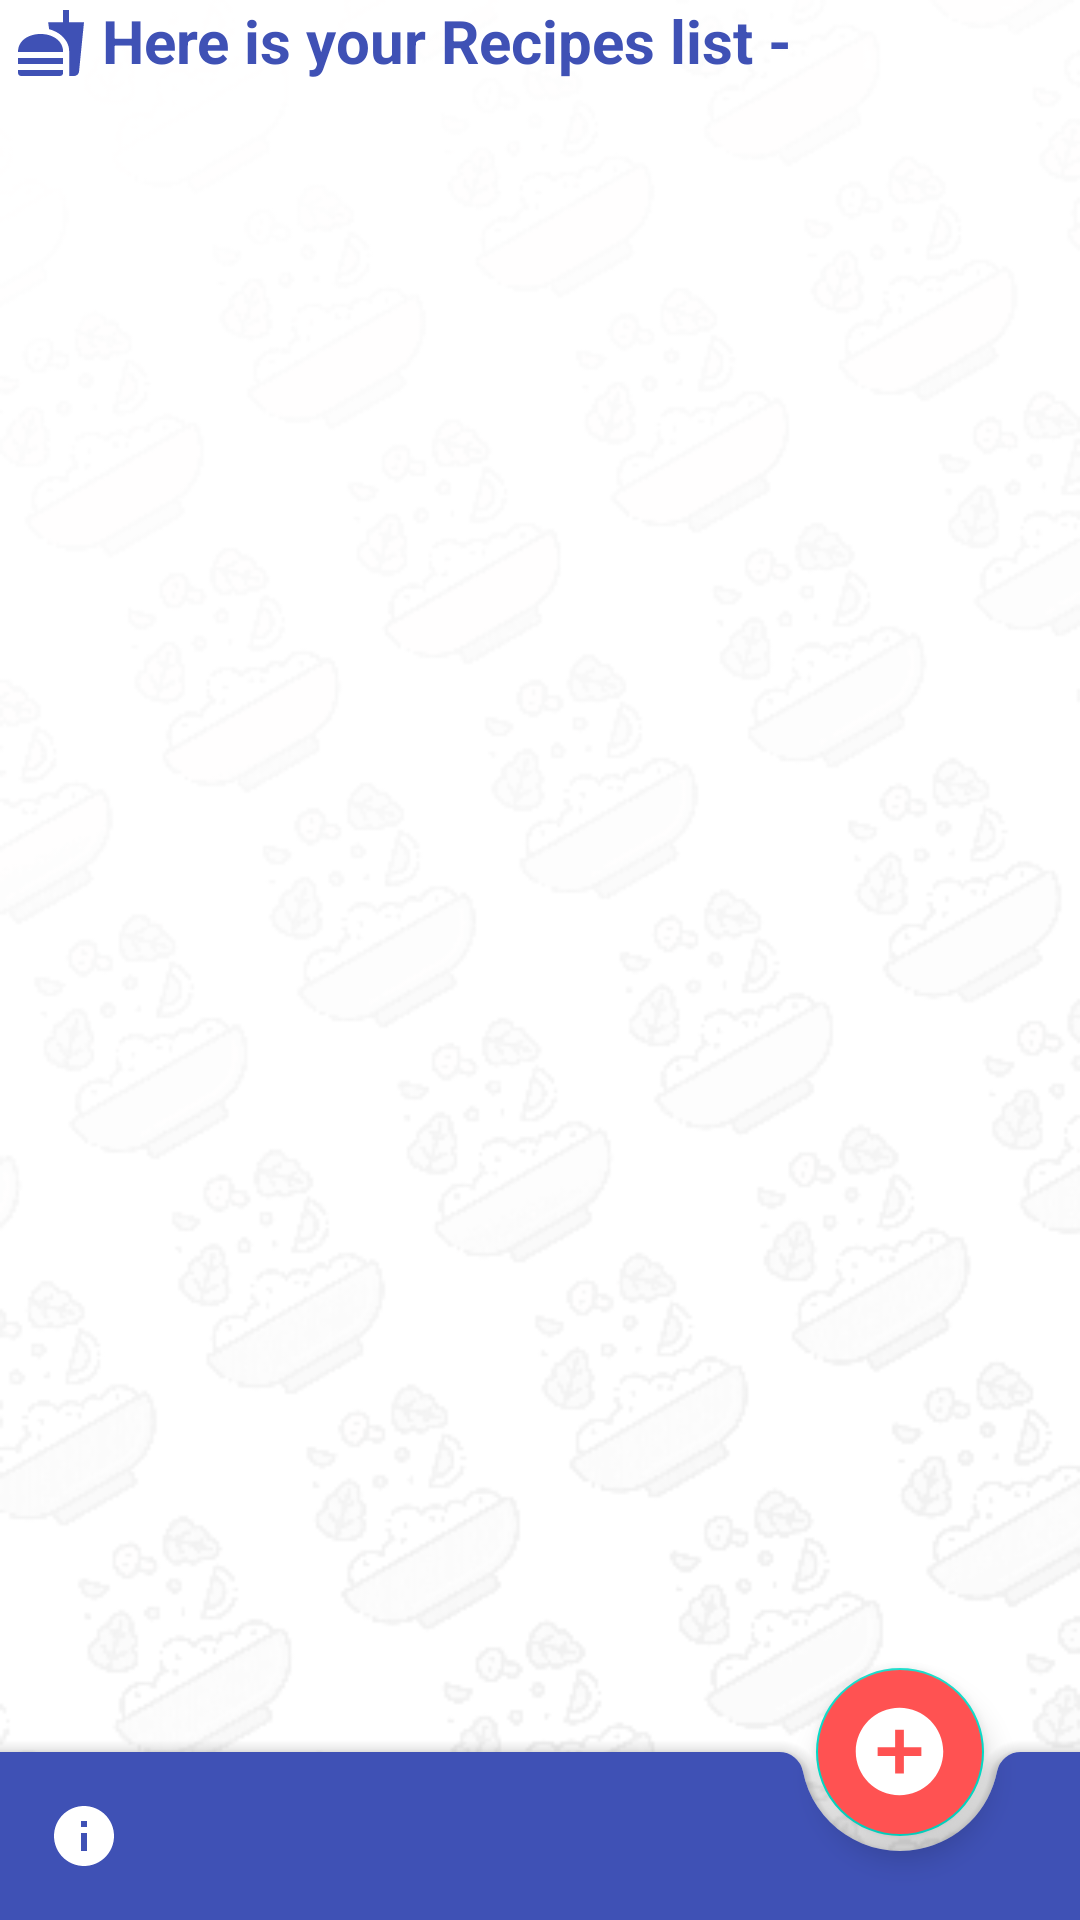

Icons on this 1080x1920 Android screen, each with the point to tap as point (x, y):
fastfood: point (51, 43)
